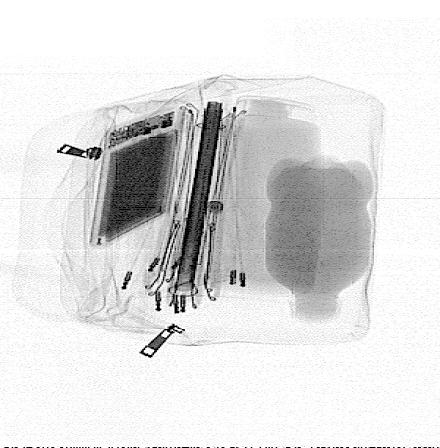Powerbank: (88, 106, 187, 248)
